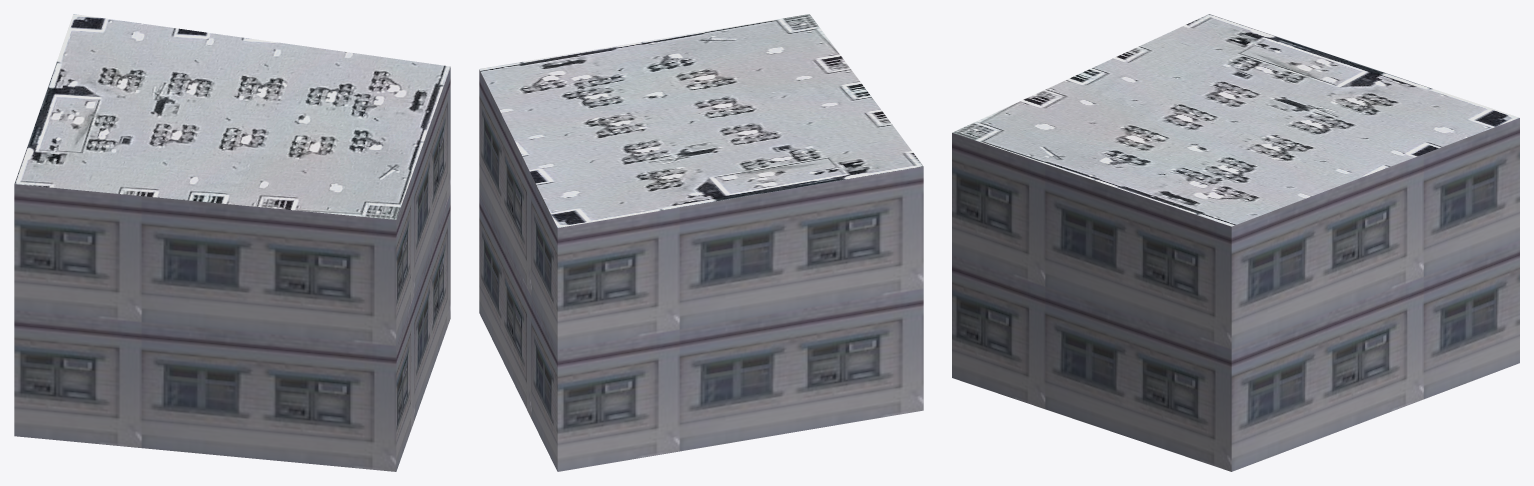
The model's file is ResTex__207.fbx.
3 renders of one model, left to right at view 1: azimuth 30°, elevation 25°; view 2: azimuth 150°, elevation 25°; view 3: azimuth 270°, elevation 25°, orthographic. The views are drawn at different scales.
Parts seen in each view (by area): view 1: CityEngineMaterial_1_m, CityEngineMaterial_m; view 2: CityEngineMaterial_1_m, CityEngineMaterial_m; view 3: CityEngineMaterial_1_m, CityEngineMaterial_m.
Part boxes in pixels (x1=…): CityEngineMaterial_1_m: x1=14, y1=67, x2=450, y2=471; CityEngineMaterial_m: x1=14, y1=14, x2=450, y2=219; CityEngineMaterial_1_m: x1=479, y1=70, x2=923, y2=471; CityEngineMaterial_m: x1=479, y1=14, x2=923, y2=227; CityEngineMaterial_1_m: x1=952, y1=118, x2=1519, y2=471; CityEngineMaterial_m: x1=952, y1=14, x2=1519, y2=226.
Bounding box in the file's own units: 11.16 × 6 × 12.59.
Materials: 2 (2 with a texture image).
